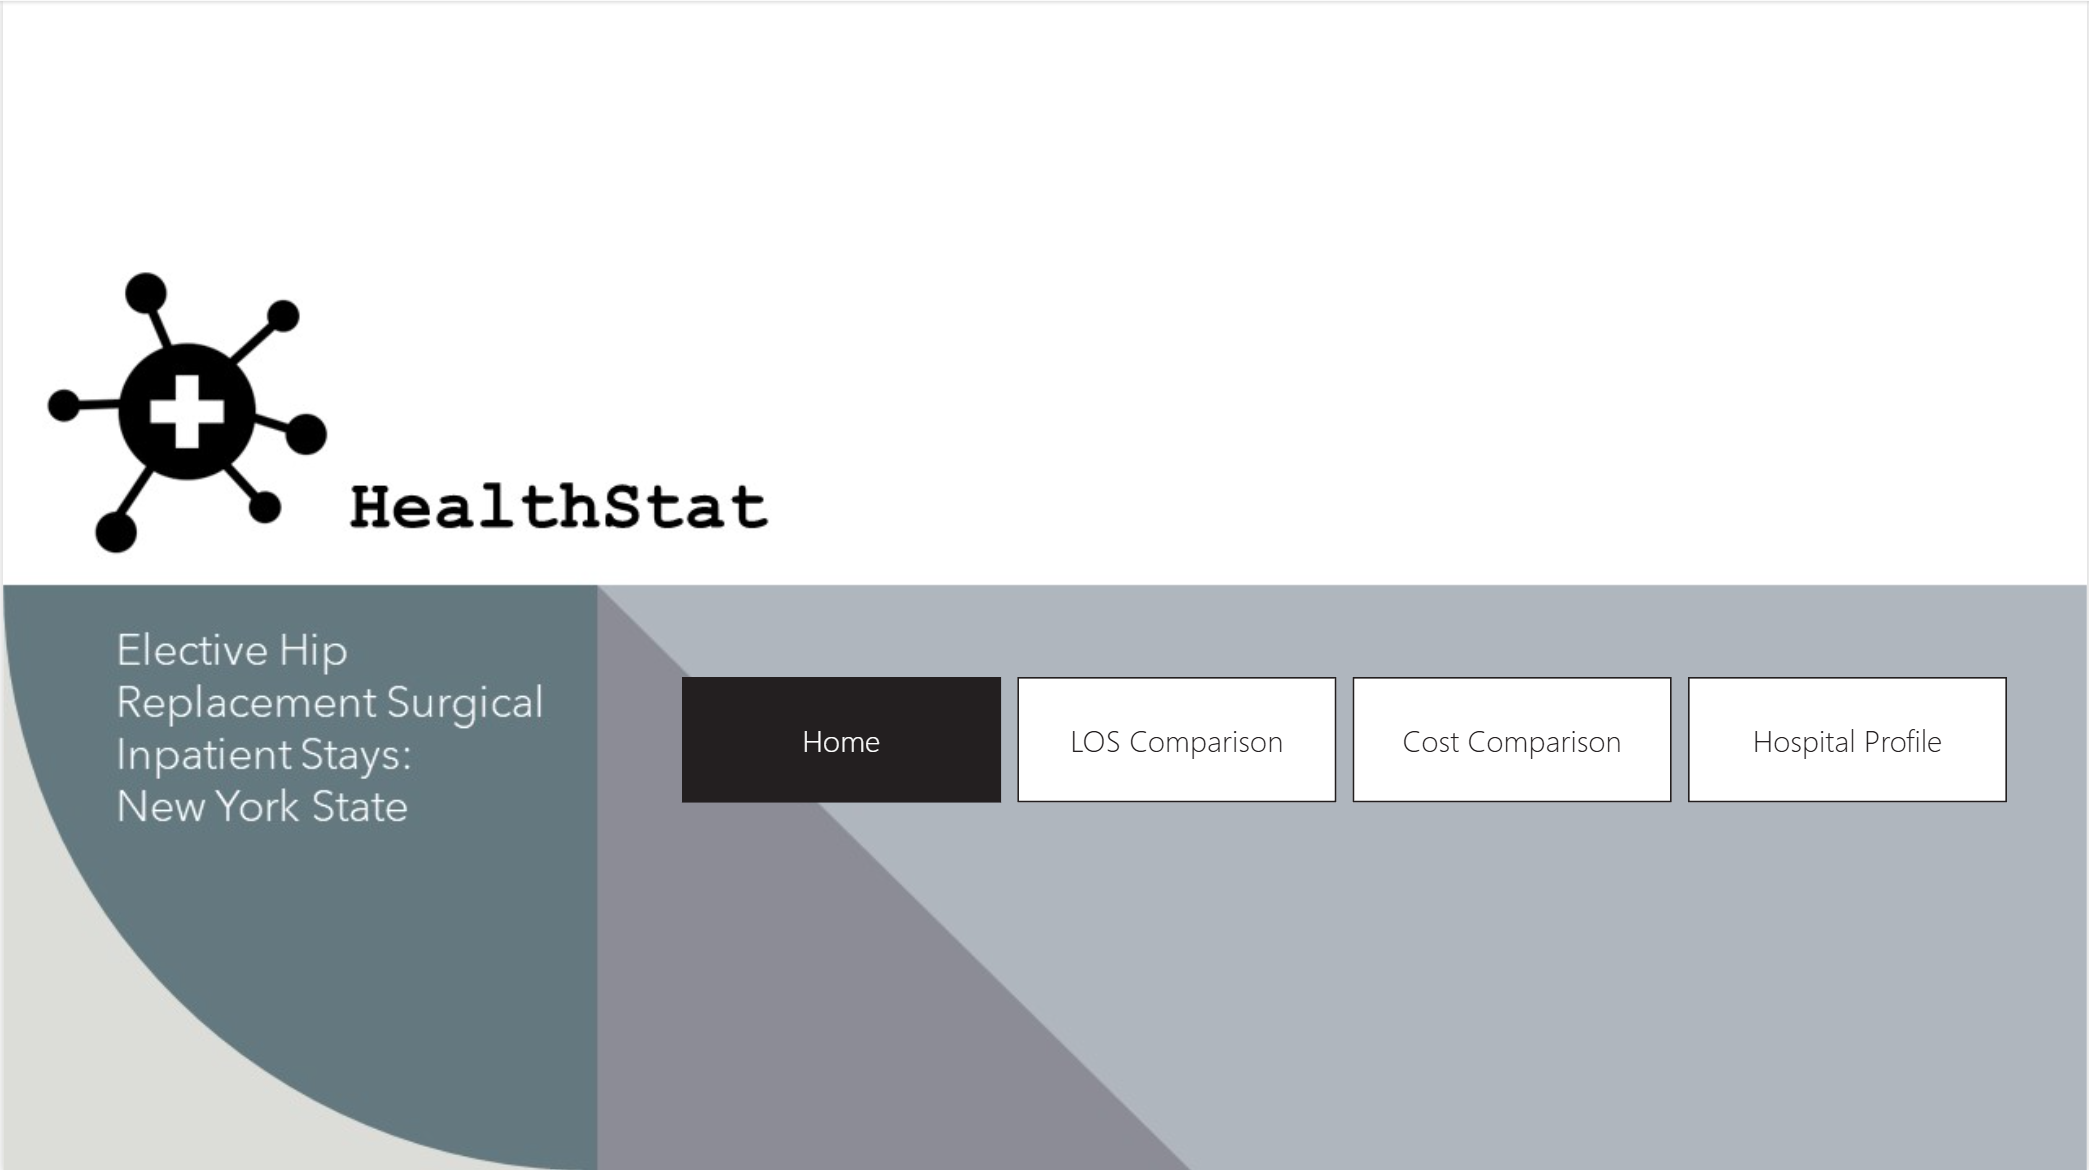

The dashboard page shown, as its layout file describes it:
{"tool":"powerbi","page":{"name":"Home","canvas":[1280,720],"ordinal":0},"visuals":[{"type":"pageNavigator","box":[417.2,415.1,817.3,77.5],"z":0}]}

Visuals, with their boxes in screenshot pixels (x1, y1, x2, y2), scaled from the page's 1280x720 canvas onto the 2089x1170 screenshot:
pageNavigator: 681:675:2015:800
